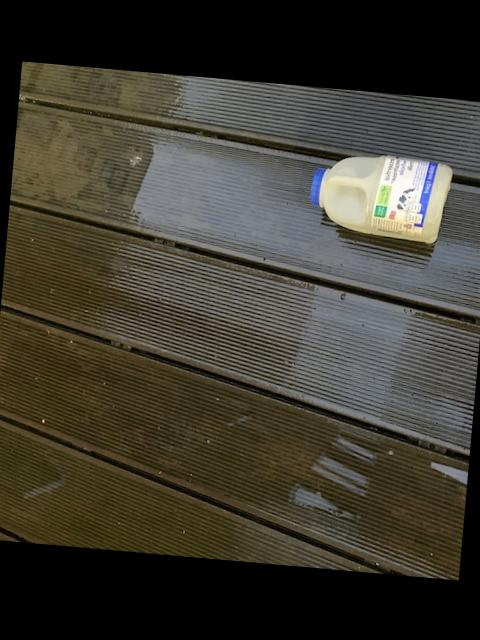plastic: (309, 154, 450, 240)
